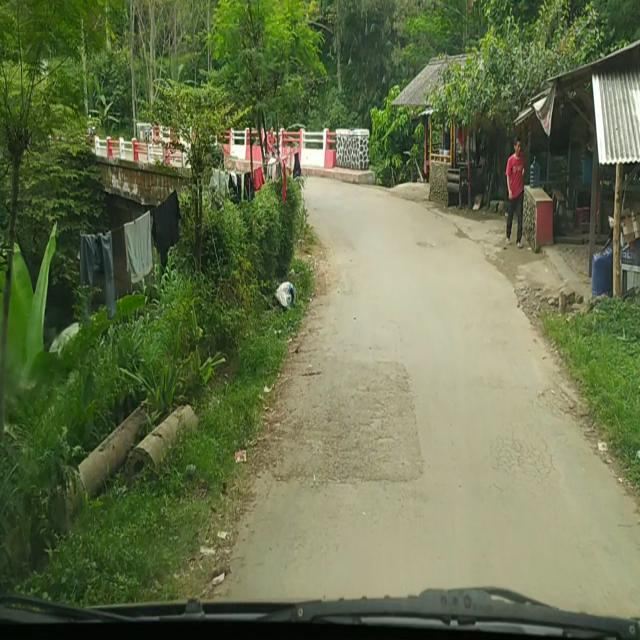Drain Hole: (488, 426, 554, 482)
